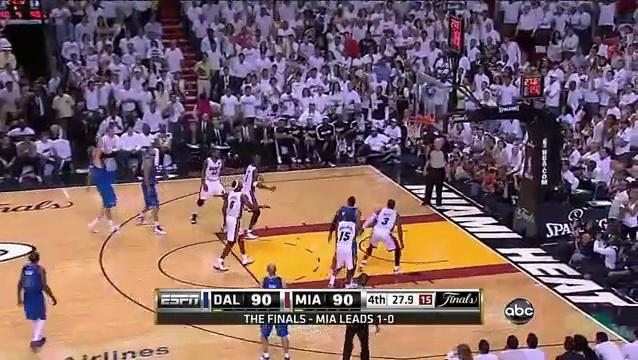Backboard: (413, 69, 449, 136)
Basket: (402, 115, 429, 138)
Person: (14, 247, 59, 355), (85, 143, 125, 235), (214, 180, 249, 272), (241, 155, 273, 244), (372, 199, 409, 274), (192, 150, 229, 224), (139, 147, 167, 233), (329, 209, 358, 286), (341, 197, 370, 264)
Referee: (421, 136, 452, 208)
Shot Clock: (447, 20, 461, 51), (523, 77, 542, 97)
